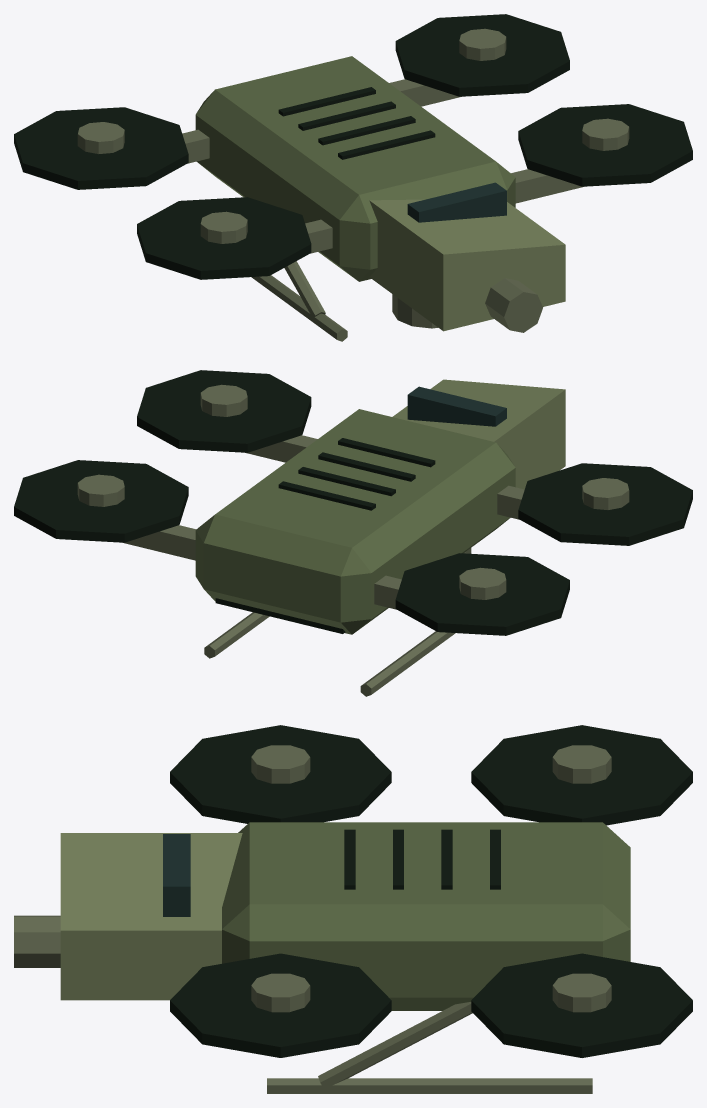
The model's file is drone.obj.
3 renders of one model, top to bottom at view 1: azimuth 30°, elevation 25°; view 2: azimuth 150°, elevation 25°; view 3: azimuth 270°, elevation 25°, orthographic. The views are drawn at different scales.
Visible parts, largest first — view 1: Body.002, Rotor_00, Rotor_02, Rotor_03, Rotor_01; view 2: Body.002, Rotor_02, Rotor_03, Rotor_01, Rotor_00; view 3: Body.002, Rotor_03, Rotor_01, Rotor_02, Rotor_00.
Boxes of the visible parts, left/top/right/bottom form: Body.002: left=182, top=56, right=583, bottom=341; Rotor_00: left=137, top=197, right=311, bottom=279; Rotor_02: left=14, top=107, right=188, bottom=189; Rotor_03: left=395, top=14, right=569, bottom=96; Rotor_01: left=518, top=104, right=692, bottom=186; Body.002: left=123, top=379, right=565, bottom=696; Rotor_02: left=395, top=553, right=569, bottom=635; Rotor_03: left=14, top=460, right=188, bottom=542; Rotor_01: left=137, top=370, right=311, bottom=452; Rotor_00: left=518, top=463, right=692, bottom=545; Body.002: left=14, top=822, right=630, bottom=1093; Rotor_03: left=471, top=953, right=692, bottom=1057; Rotor_01: left=170, top=953, right=391, bottom=1057; Rotor_02: left=471, top=725, right=692, bottom=825; Rotor_00: left=170, top=725, right=391, bottom=823.
Size of the model in its own units: 3.52 by 0.9664 by 3.14.
1 material, 1 textured.
